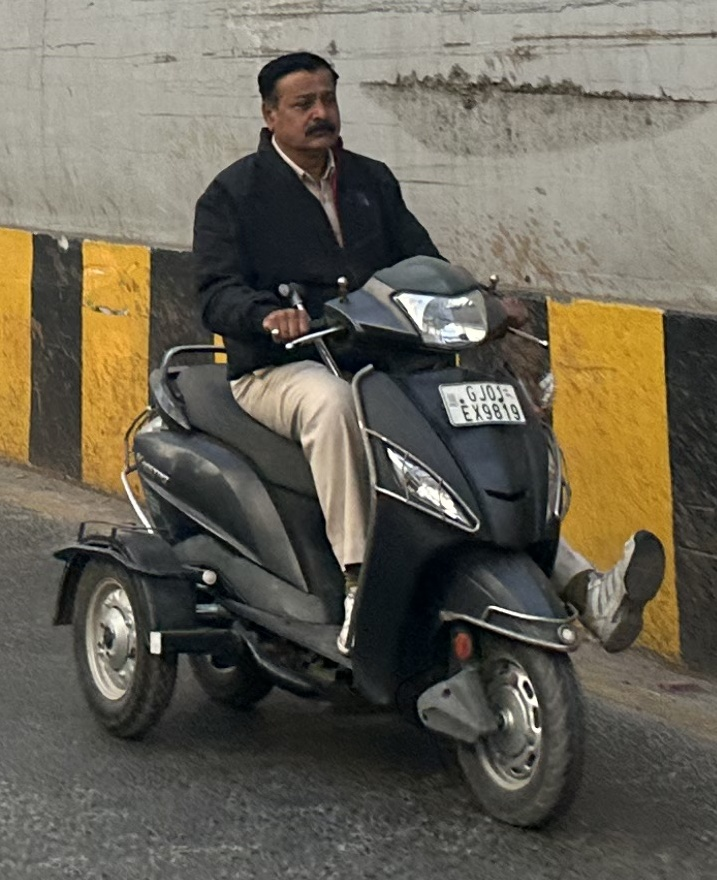BikeWithRider: (56, 45, 668, 834)
NoHelmet: (254, 45, 348, 151)
